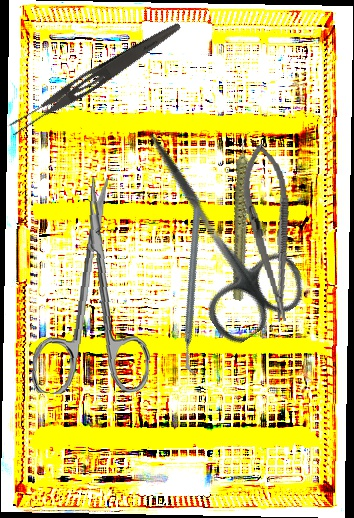Chopper: (124, 206, 265, 378)
Dressing Forceps: (5, 13, 184, 141)
Handpiece: (197, 130, 290, 302)
Iris Scissors: (106, 108, 315, 351), (31, 173, 162, 401)
Needle Holder: (236, 141, 304, 325)
